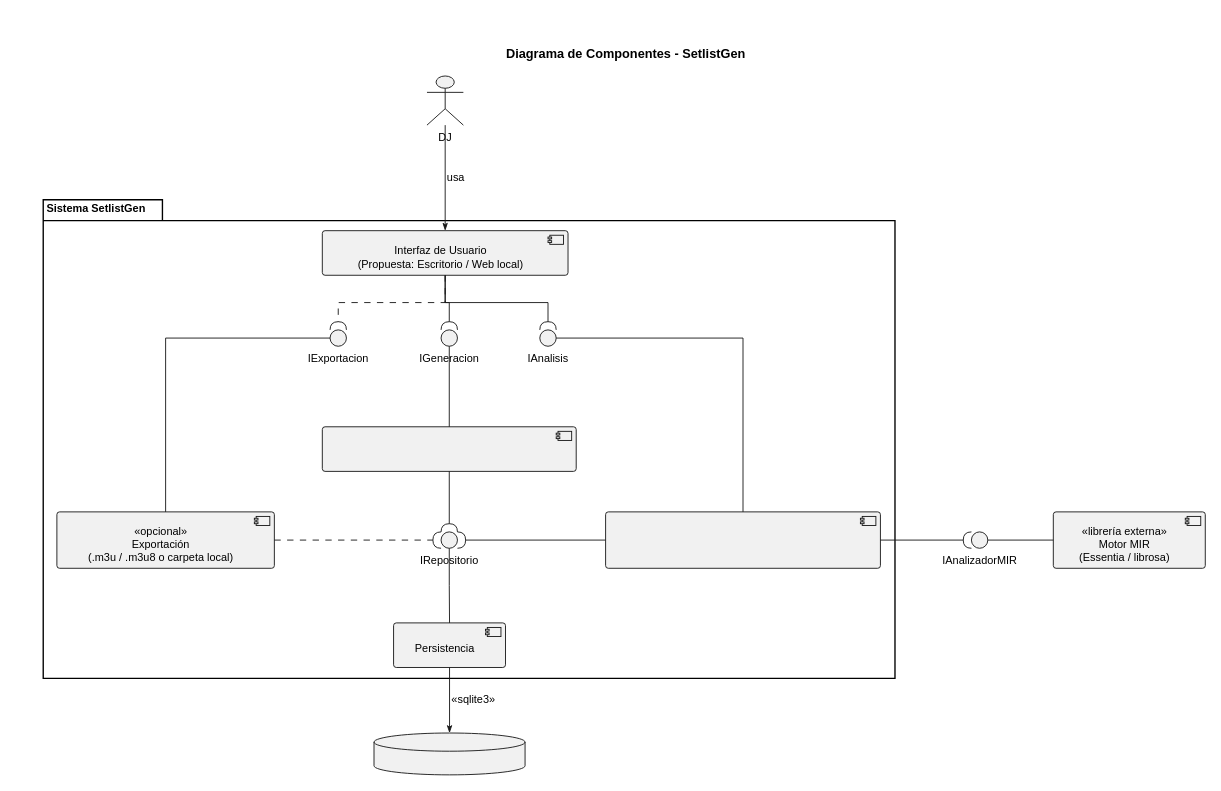
Some shapes in this 1221 by 791 pixel diagram are drawn without their labels. The shapes that lost their labels are listed below. From the top down, each one's box as (x1, y1, x2, y2) in pixels, then its label:
(321, 426, 576, 471): Generador de Setlists (Cálculo armónico y edición flexible)
(605, 511, 880, 568): Analizador de Bibliotecas (Estadísticas, metadatos, BPM y tonalidad)
(373, 732, 525, 775): SQLite (Rutas y descriptores)
